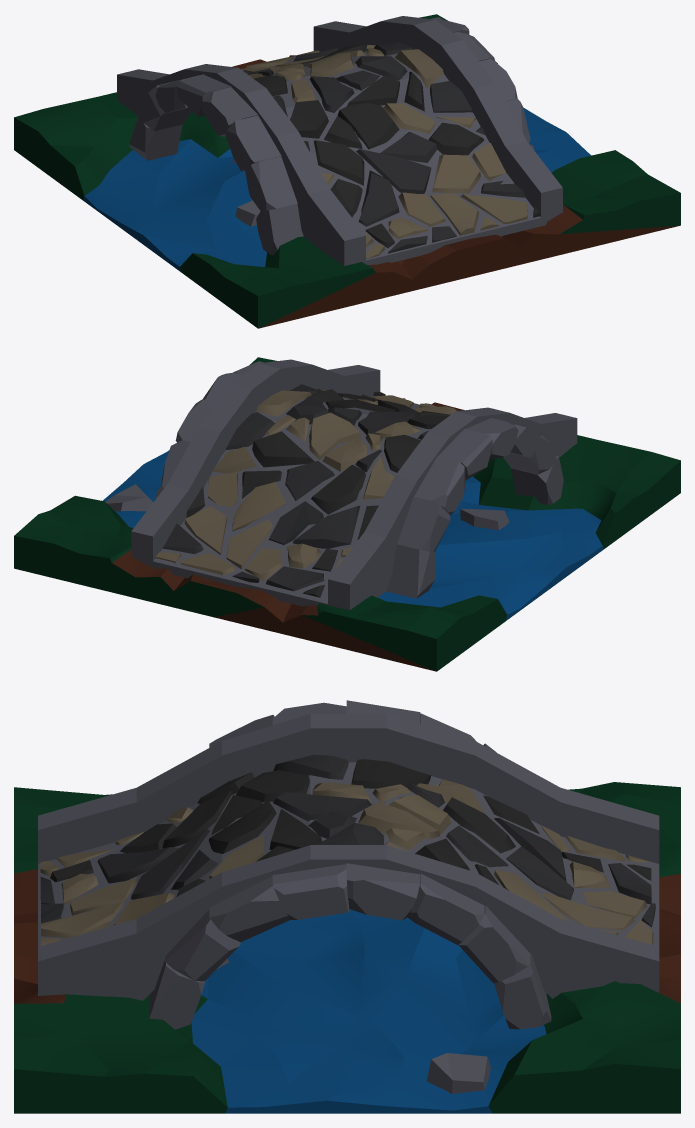
The model's file is Bridge_V.fbx.
3 renders of one model, top to bottom at view 1: azimuth 30°, elevation 25°; view 2: azimuth 150°, elevation 25°; view 3: azimuth 270°, elevation 25°, orthographic. The views are drawn at different scales.
Visible parts, largest first — view 1: Bridge_V; view 2: Bridge_V; view 3: Bridge_V.
Part boxes in pixels (<box>): Bridge_V: <box>14,14,680,328</box>; Bridge_V: <box>14,357,680,671</box>; Bridge_V: <box>14,700,680,1113</box>.
Bounding box in the file's own units: 147 × 44.02 × 147.
